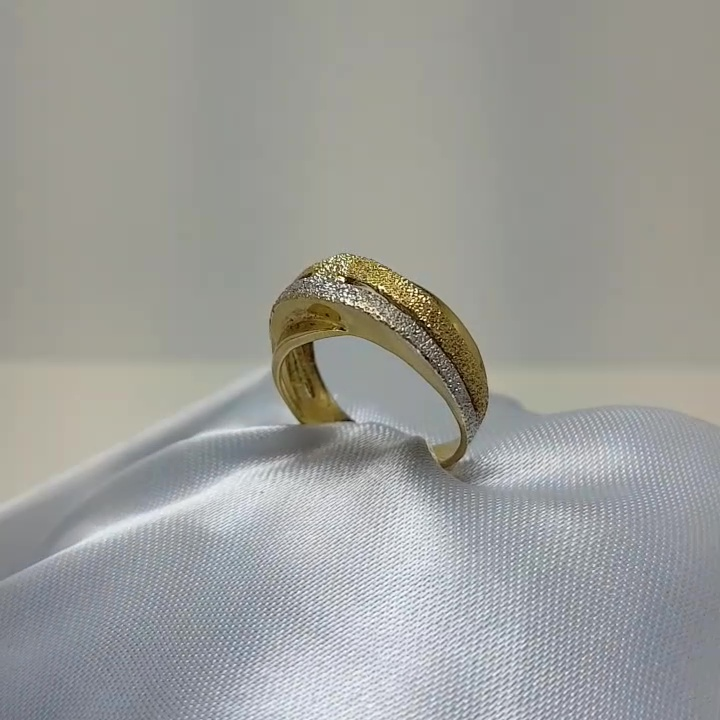Ring 5: (237, 207, 502, 491)
